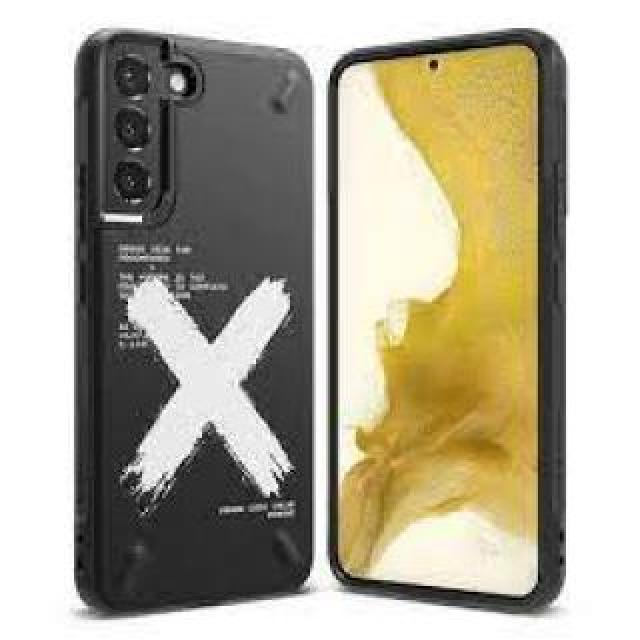smart phone: (68, 30, 327, 630), (310, 7, 577, 548)
